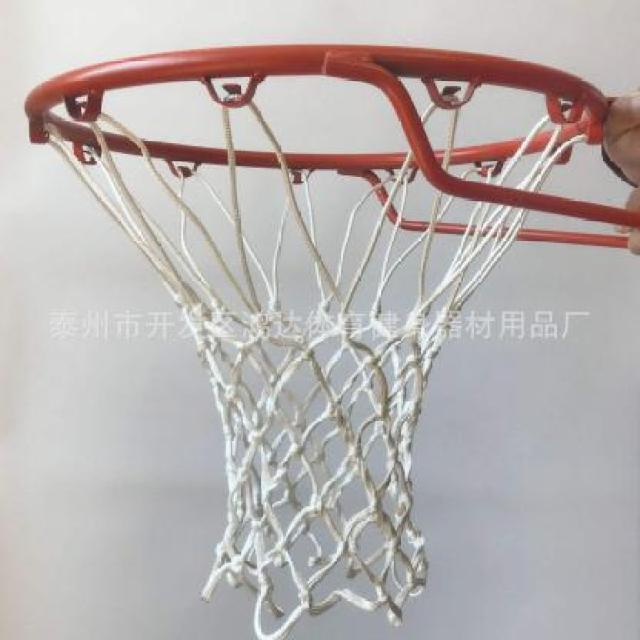rim: (25, 39, 607, 636)
